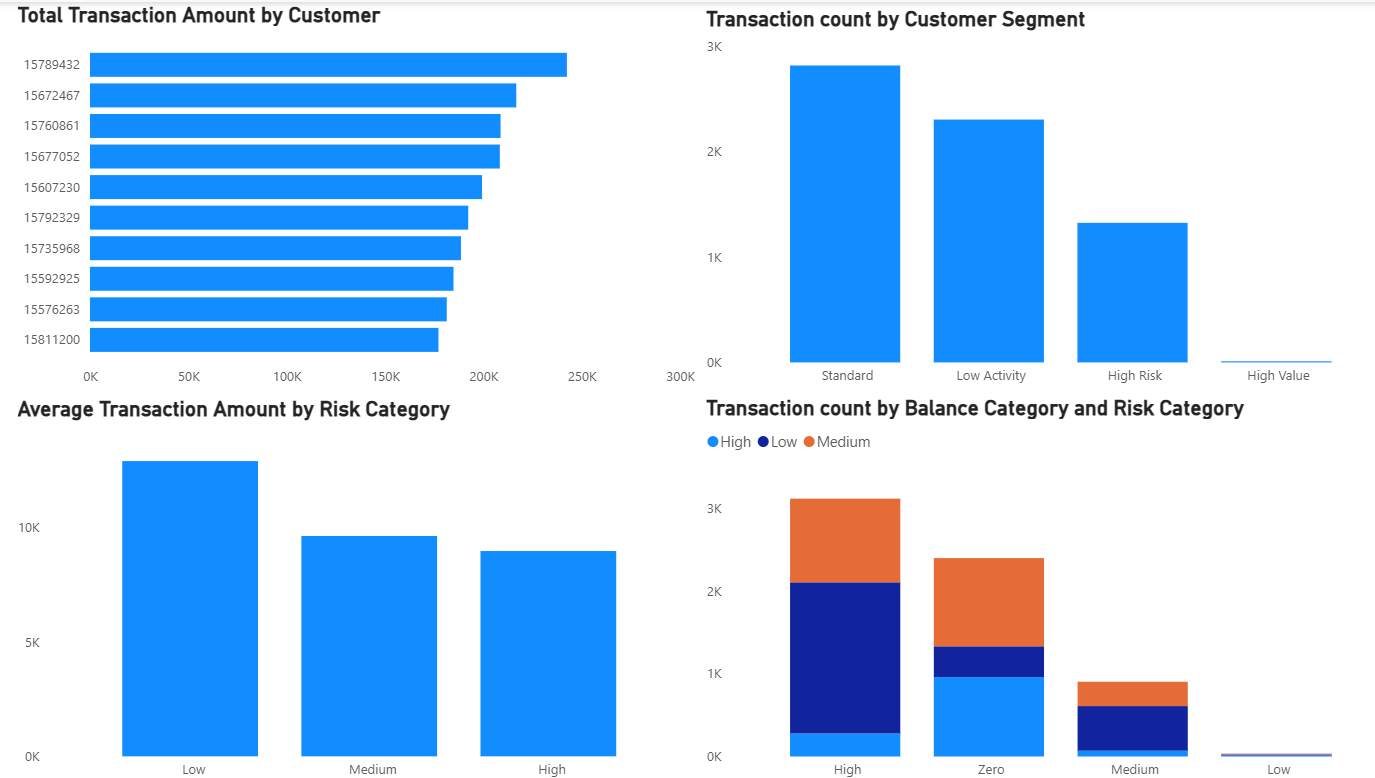

What the dashboard file says about the page in this screenshot:
{"tool":"powerbi","page":{"name":"Transaction Analytics","canvas":[1280,720],"ordinal":2},"visuals":[{"type":"clusteredBarChart","title":"Total Transaction Amount by Customer","fields":{"Category":["transactions.customer_id"],"Y":["Sum(transactions.total_transaction_amount)"]},"box":[10.6,0,629.9,360.4],"z":0},{"type":"clusteredColumnChart","title":"Transaction count by Customer Segment","fields":{"Y":["Sum(customer_risk.transaction_count)"],"Category":["customer_risk.customer_segment"]},"box":[640.6,3.8,638.7,355.3],"z":1},{"type":"clusteredColumnChart","title":"Average Transaction Amount by Risk Category","fields":{"Category":["customer_risk.risk_category"],"Y":["Avg(customer_risk.avg_transaction_amount)"]},"box":[10.6,360.4,629.9,358.9],"z":2},{"type":"columnChart","title":"Transaction count by Balance Category and Risk Category","fields":{"Category":["customer_risk.balance_category"],"Y":["Sum(customer_risk.transaction_count)"],"Series":["customer_risk.risk_category"]},"box":[640.5,358.9,639,360.4],"z":3}]}

Visuals, with their boxes in screenshot pixels (x1, y1, x2, y2), scaled from the page's 1280x720 canvas onto the 1375x778 screenshot:
"Total Transaction Amount by Customer" clusteredBarChart: detection(11, 0, 688, 389)
"Transaction count by Customer Segment" clusteredColumnChart: detection(688, 4, 1374, 388)
"Average Transaction Amount by Risk Category" clusteredColumnChart: detection(11, 389, 688, 777)
"Transaction count by Balance Category and Risk Category" columnChart: detection(688, 388, 1374, 777)
